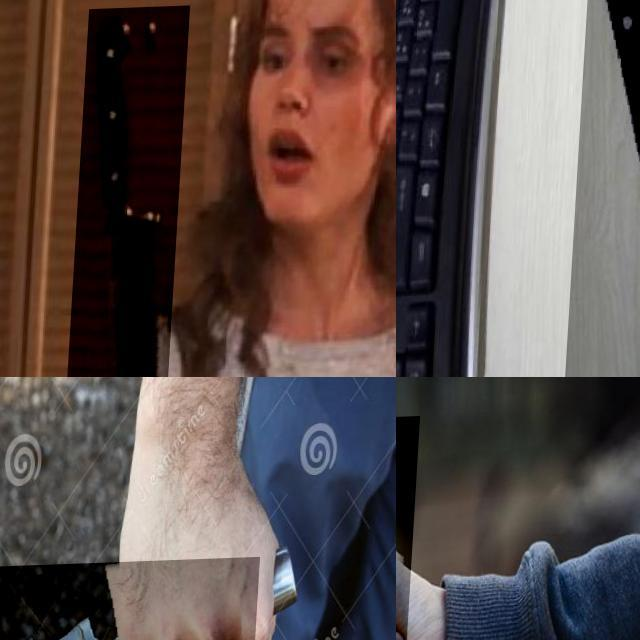-: (63, 7, 190, 377), (565, 0, 640, 377), (396, 419, 493, 640), (0, 560, 262, 640)
